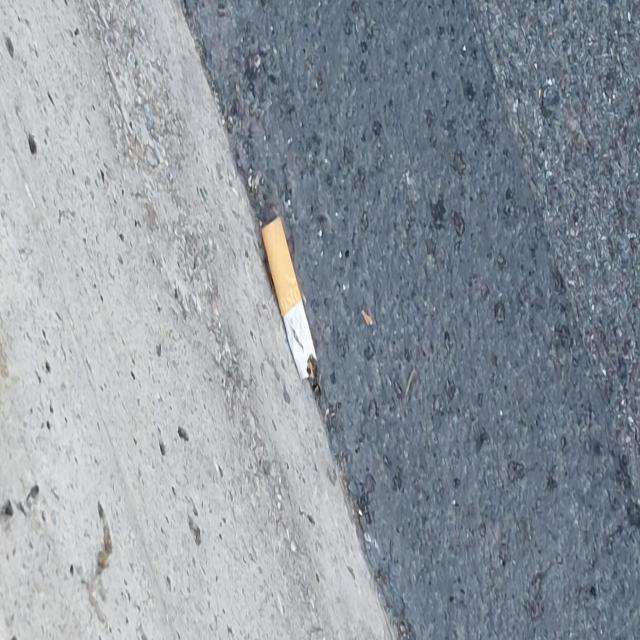other waste: (261, 214, 319, 396)
